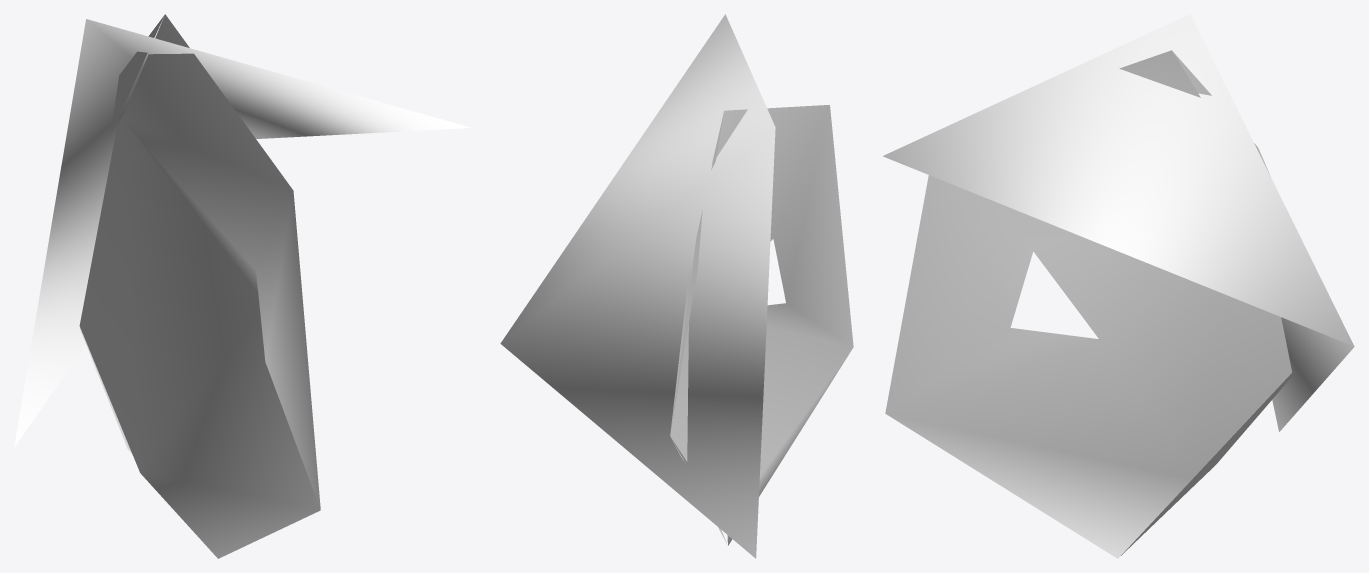
The picture shows the model from 3 angles, left to right: view 1: azimuth 30°, elevation 25°; view 2: azimuth 150°, elevation 25°; view 3: azimuth 270°, elevation 25°; orthographic projection. The views are drawn at different scales.
Bounding box in the file's own units: 0.1784 × 0.3572 × 0.3045.
Materials: 1 (1 with a texture image).
